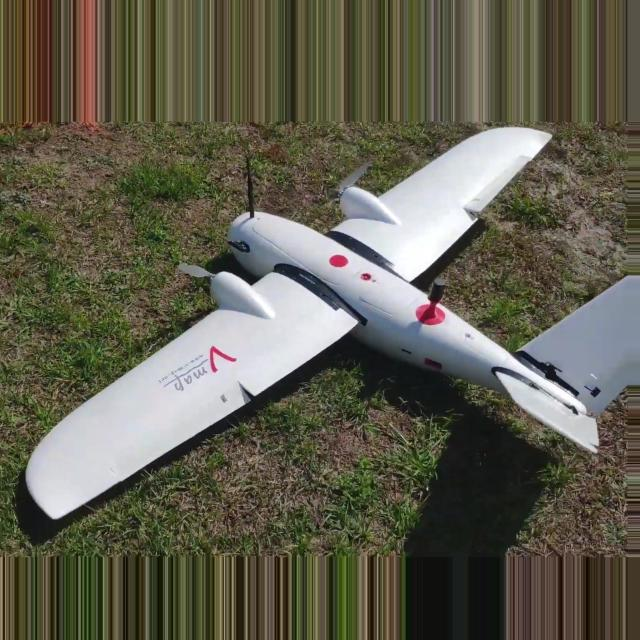iha: (12, 121, 628, 520)
